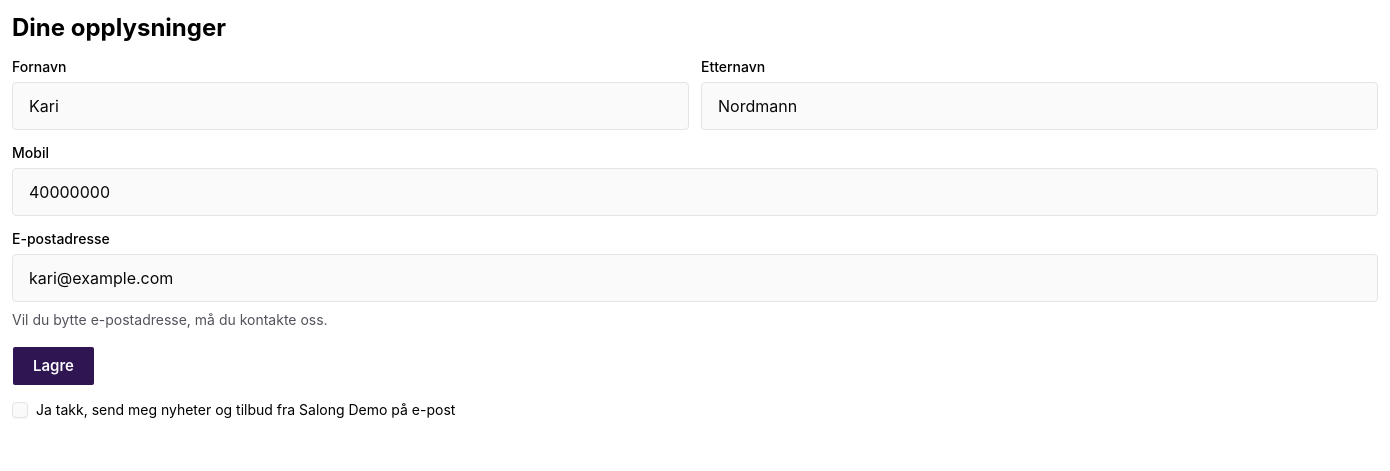
Test: ProfileForm › sends trimmed names and the phone as typed, and says «saved»
The width and height of the screenshot is (1390, 471).
Replace the text in the field labelled "Fornavn" with "  Kari ". click: (350, 106)
box: [12,82,689,130]
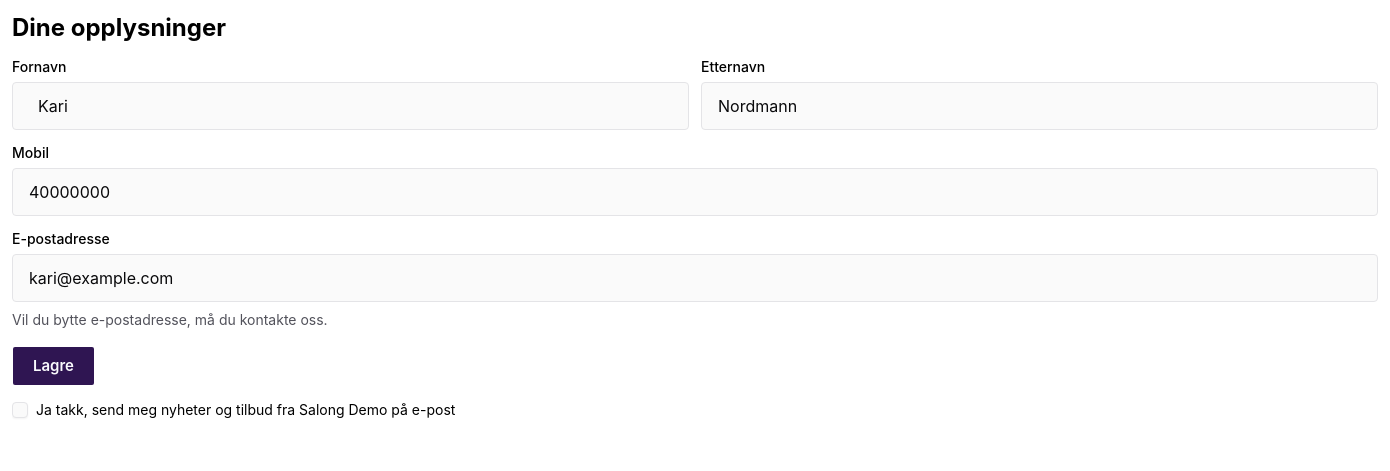
Replace the text in the field labelled "Etternavn" with " Nordmann  ". click: (1040, 106)
box: [701,82,1378,130]
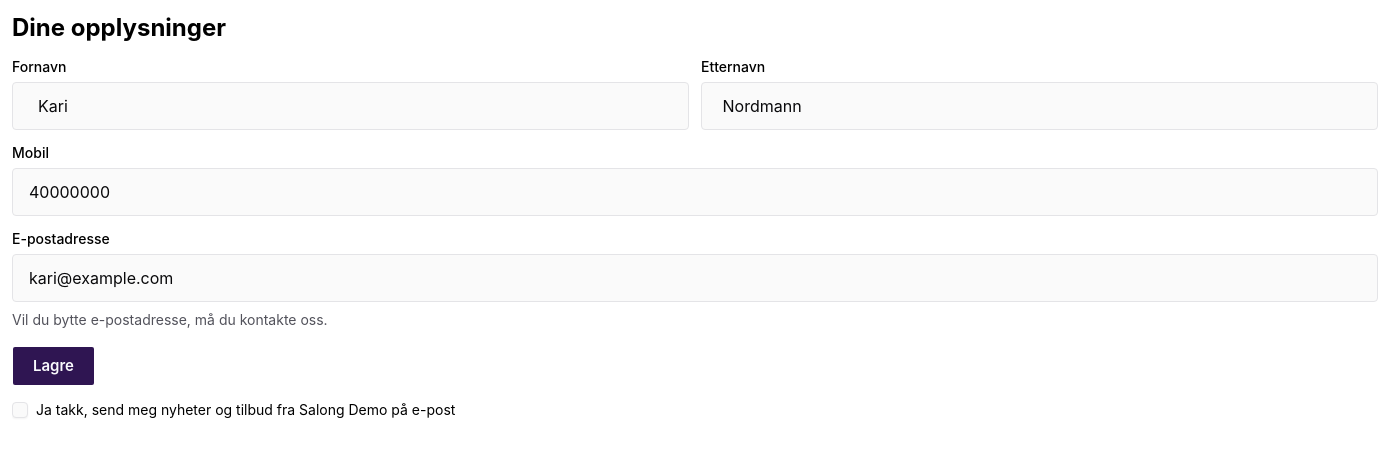
Replace the text in the field labelled "Mobil" with "400 00 000". click: (695, 192)
box: [12,168,1378,216]
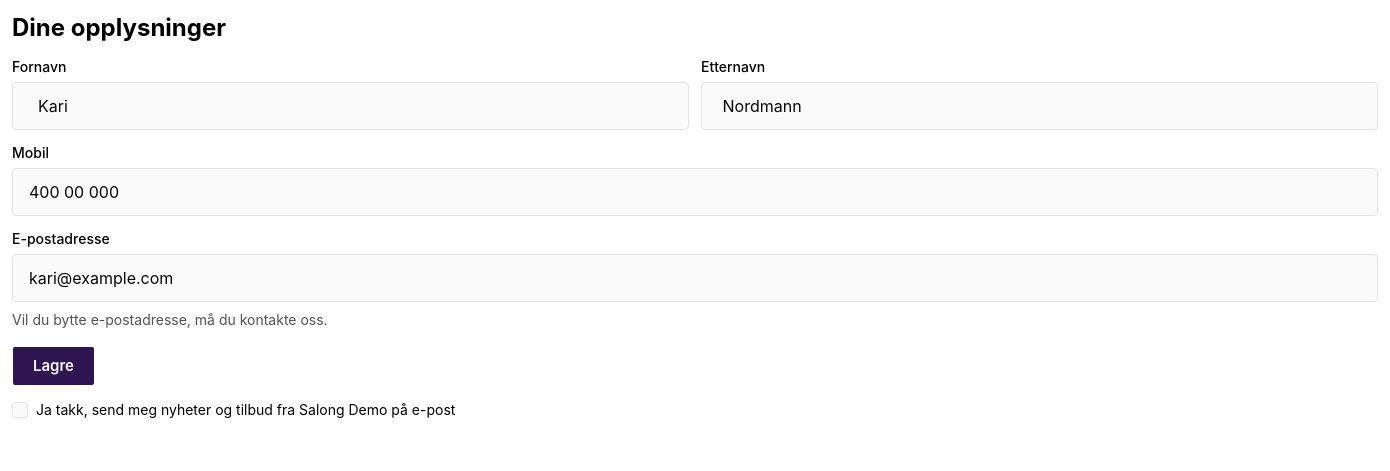
Click the button "Lagre". click: (54, 366)
box: [12,346,95,386]
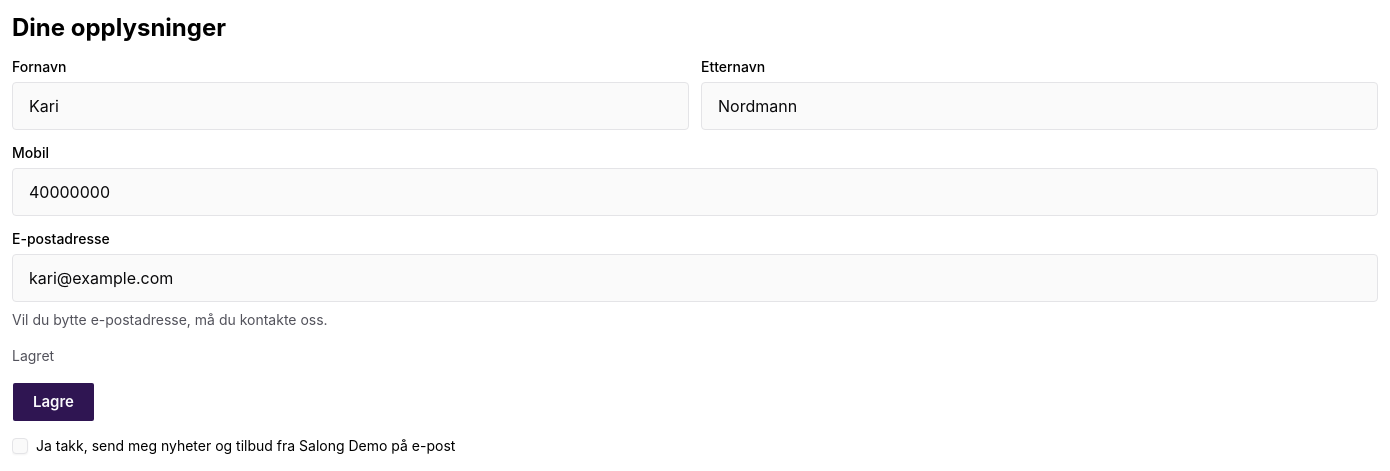
Now the text "Lagret" is shown, box [12,347,54,364]
